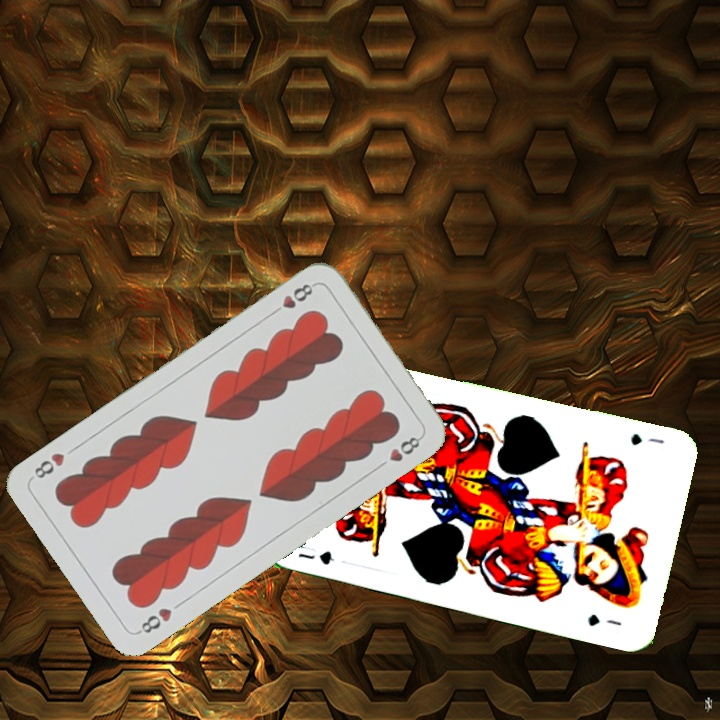GU: (294, 541, 336, 568), (626, 429, 667, 448)
H8: (267, 279, 318, 318), (134, 603, 175, 637)
